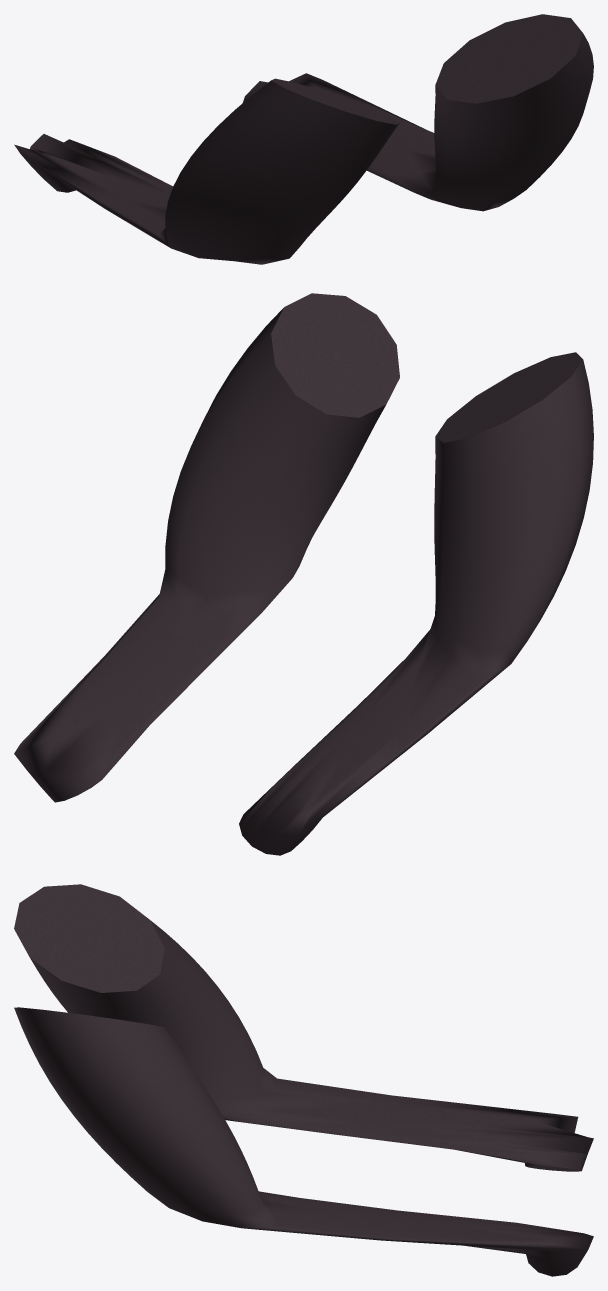
File: facial_sheet_goatee_default.gltf
3 renders of one model, top to bottom at view 1: azimuth 30°, elevation 25°; view 2: azimuth 150°, elevation 25°; view 3: azimuth 270°, elevation 25°, orthographic. The views are drawn at different scales.
Visible parts, largest first — view 1: Goatee; view 2: Goatee; view 3: Goatee.
Part boxes in pixels (x1,y1,x2,y2): Goatee: (14, 14, 593, 264); Goatee: (14, 293, 593, 855); Goatee: (14, 884, 593, 1276).
Size of the model in its own units: 0.109 by 0.0815 by 0.1556.
1 material, 1 textured.
